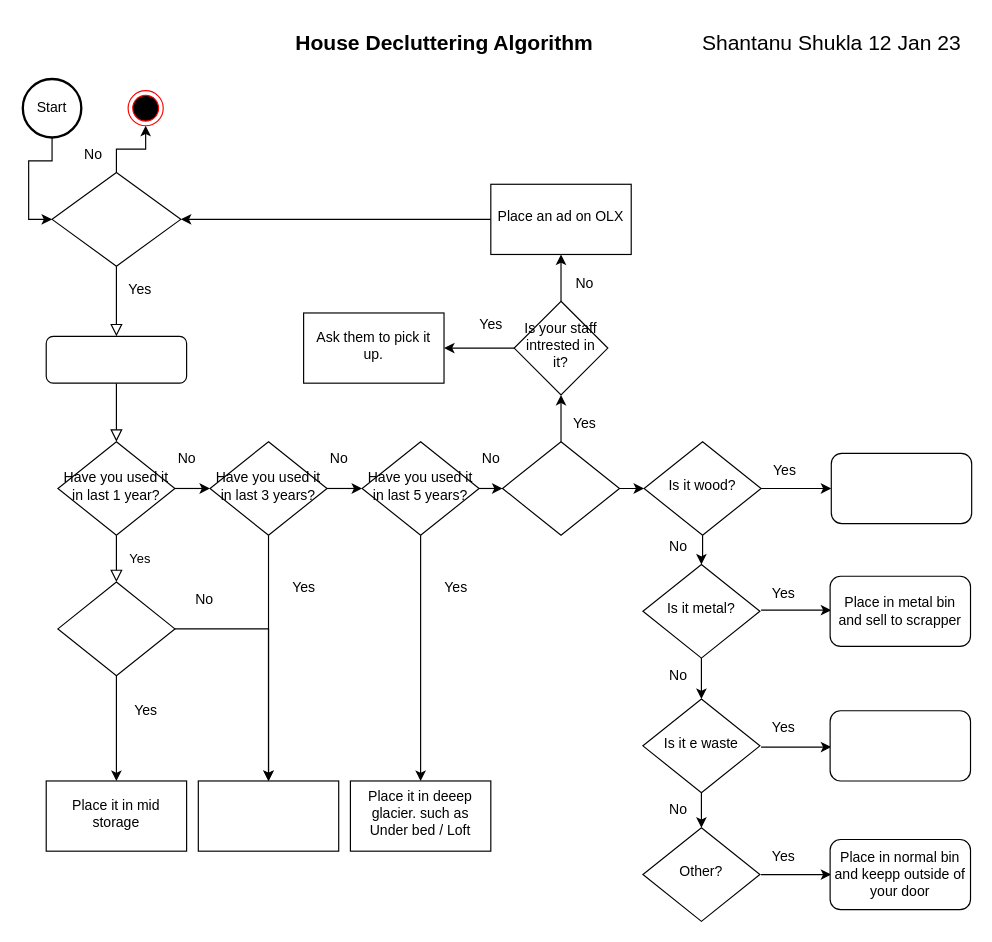
The diagram is 992 pixels wide and 942 high, and some of its shapes have lost their labels. The shapes that lost their labels are listed below. From the top down, each one's centre as x and y in pixels, then its label:
the point at 116,218: Is there anything to pick?
the point at 116,359: Select an object
the point at 560,488: Do you want to donate / sell it?
the point at 901,488: Place in wood bin and donate to needy
the point at 116,628: Do you access it freuquently?
the point at 900,745: Place in ewaste bin and donate it
the point at 268,815: Place it in high storage. WR upper compartment
